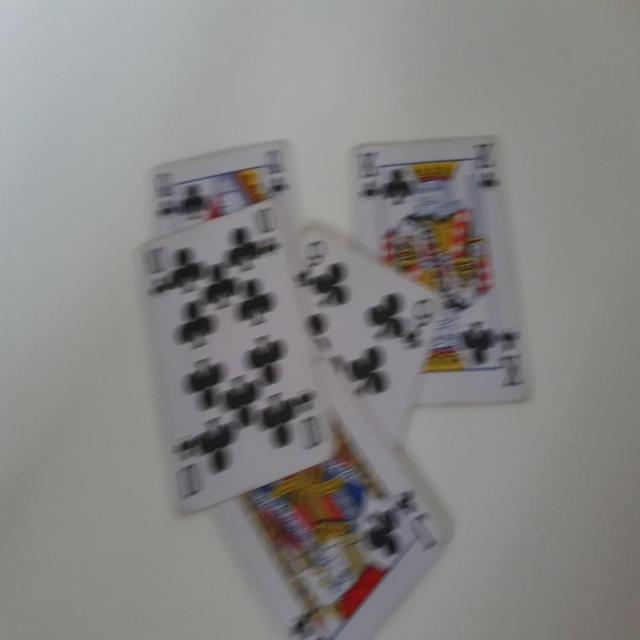10 Trefoils: (138, 202, 330, 512)
9 Trefoils: (292, 222, 444, 457)
J Trefoils: (209, 341, 452, 640)
K Trefoils: (353, 135, 536, 408)
